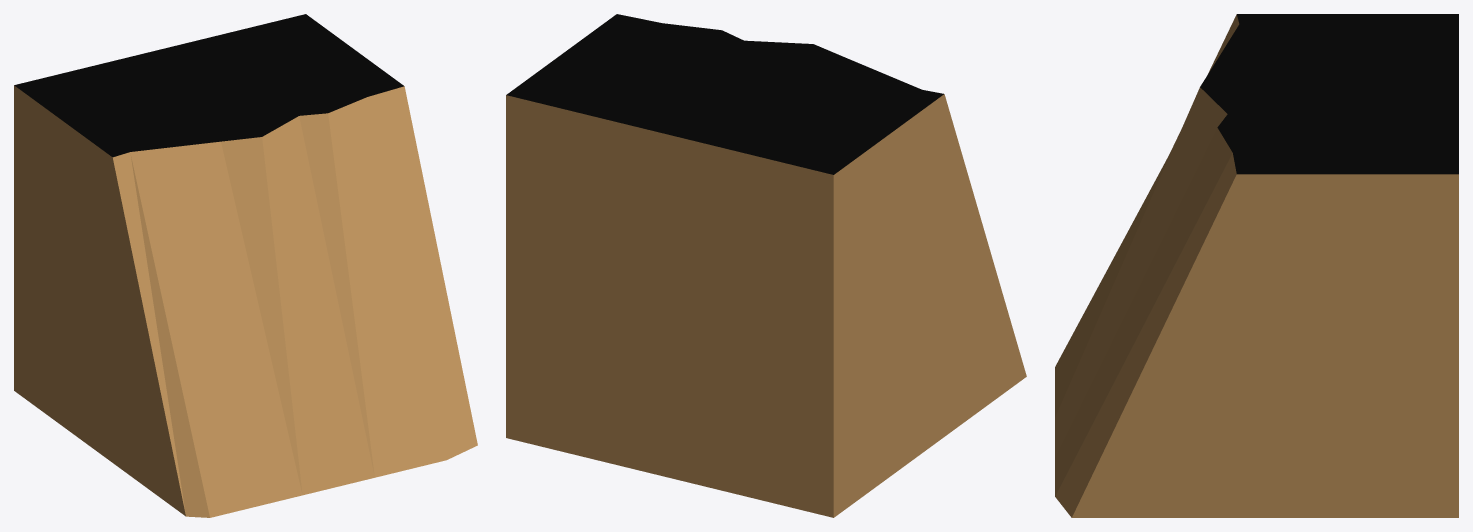
Rendered from Model_Desert_Slope_3SLTR_LRS_2.fbx.
The picture shows the model from 3 angles, left to right: view 1: azimuth 30°, elevation 25°; view 2: azimuth 150°, elevation 25°; view 3: azimuth 270°, elevation 25°; orthographic projection. The views are drawn at different scales.
Parts seen in each view (by area): view 1: Model_Frost_Obstacle2; view 2: Model_Frost_Obstacle2; view 3: Model_Frost_Obstacle2.
Boxes of the visible parts, left/top/right/bottom form: Model_Frost_Obstacle2: left=14, top=14, right=477, bottom=517; Model_Frost_Obstacle2: left=506, top=14, right=1026, bottom=517; Model_Frost_Obstacle2: left=1055, top=14, right=1458, bottom=517.
Size of the model in its own units: 200 by 200 by 213.
Materials: 2 (1 with a texture image).
